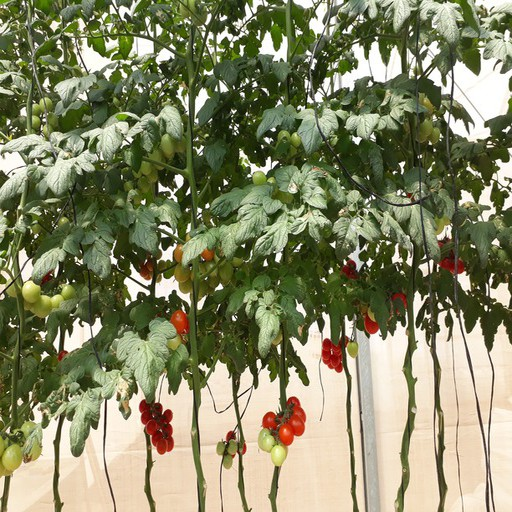green tomato bunch: (173, 232, 245, 300), (123, 130, 187, 204), (2, 279, 78, 315), (1, 420, 44, 479), (404, 95, 441, 146), (27, 96, 59, 148), (250, 172, 294, 204), (277, 124, 311, 162)
mixed tomato bunch: (259, 397, 306, 466), (216, 431, 246, 469)
red tomato bunch: (366, 284, 406, 336), (139, 398, 174, 453), (433, 239, 466, 276), (323, 337, 353, 372), (341, 261, 357, 285)
